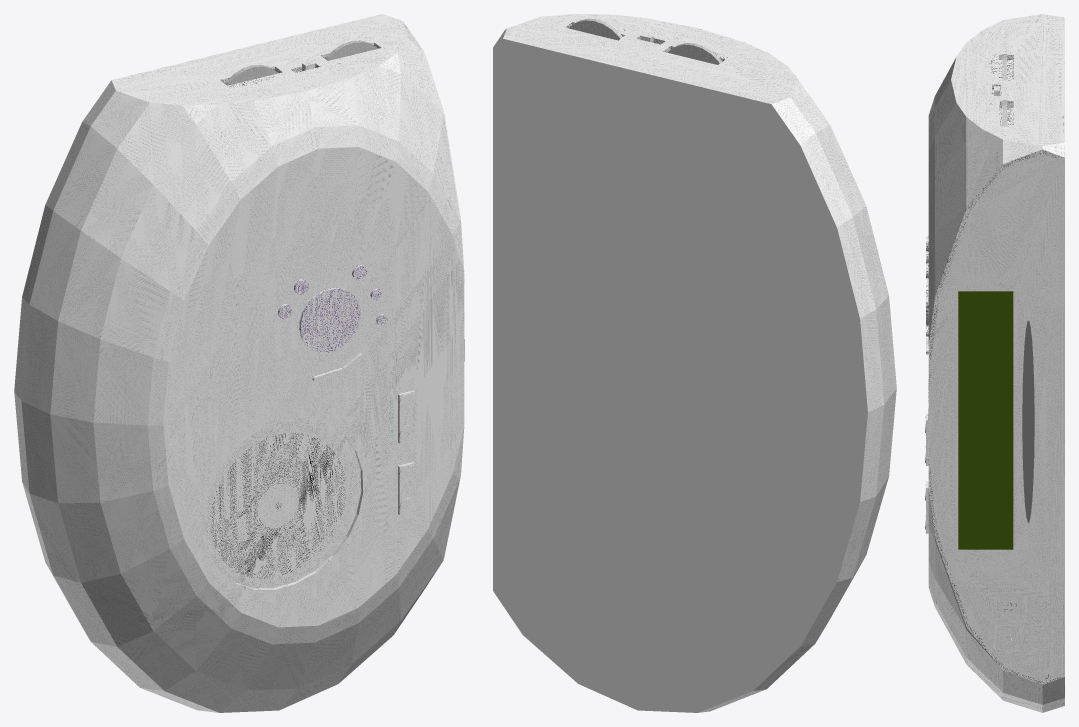
3 views of the same model, side by side, from view 1: azimuth 30°, elevation 25°; view 2: azimuth 150°, elevation 25°; view 3: azimuth 270°, elevation 25° (orthographic). The views are drawn at different scales.
Parts seen in each view (by area): view 1: roberts digital clock; view 2: roberts digital clock; view 3: roberts digital clock.
Boxes of the visible parts, x1,y1,x2,y2 form: roberts digital clock: (14, 14, 464, 712); roberts digital clock: (493, 14, 896, 712); roberts digital clock: (925, 14, 1064, 712).
Size of the model in its own units: 112 by 185 by 37.46.
